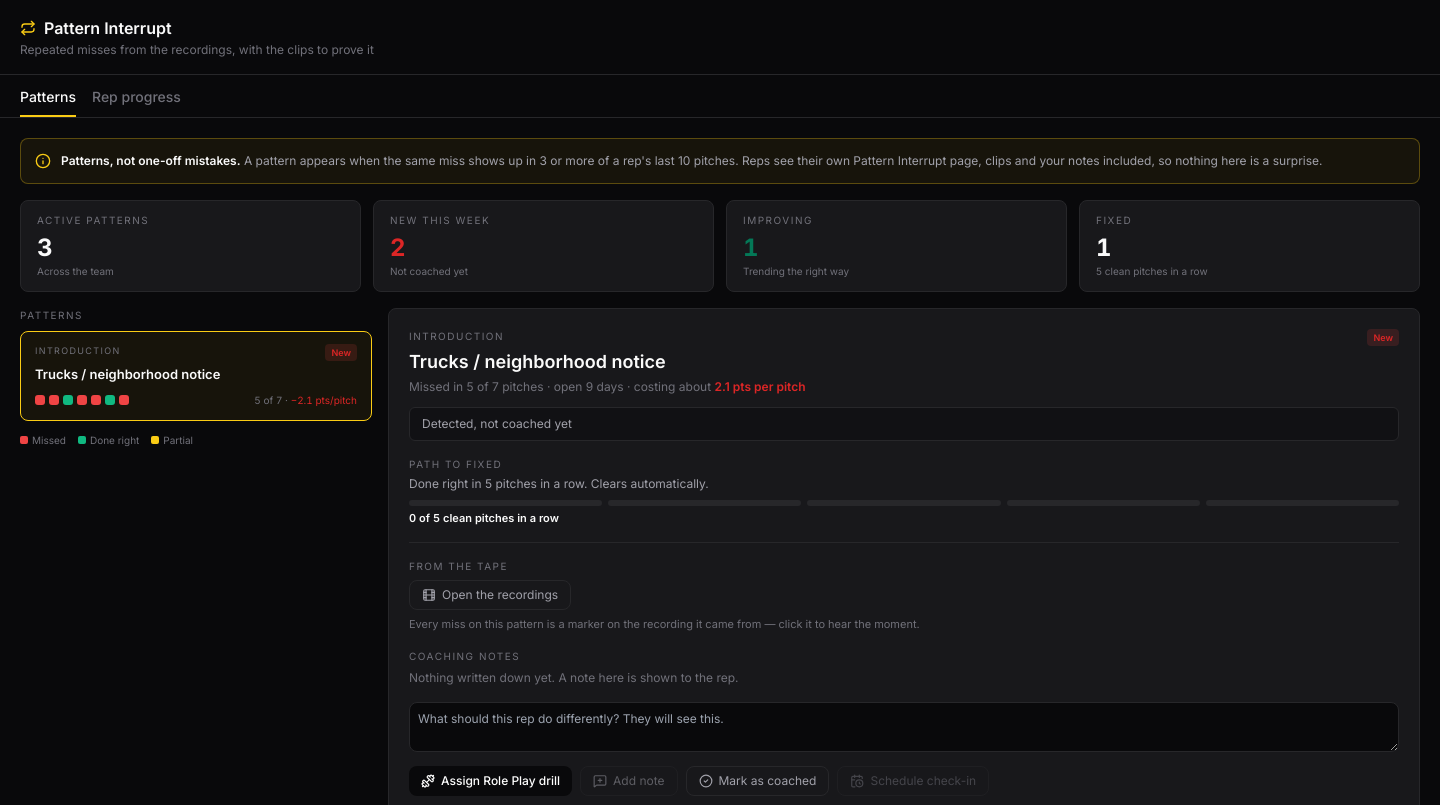
Scenario: the role split › gives a manager both tabs, and Rep progress renders the team
Expected: the text "Path to fixed" is shown, left=409, top=458, right=502, bottom=470
Click the button "Rep progress".
click(136, 102)  # box left=92, top=87, right=181, bottom=117
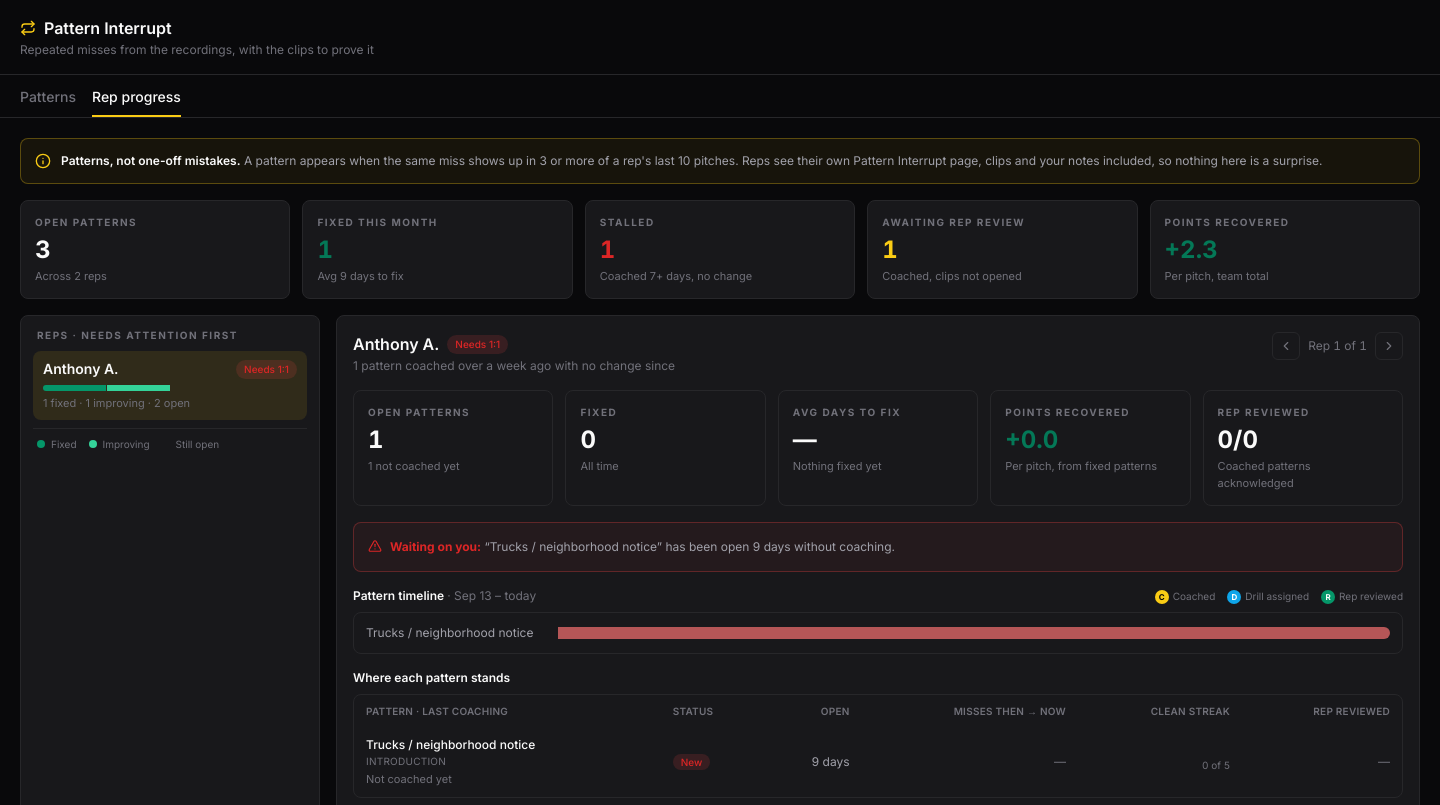
Now the text "Anthony A." is shown 2 times, box left=43, top=359, right=119, bottom=379; left=353, top=332, right=439, bottom=356
Now the text "1 fixed · 1 improving · 2 open" is shown, box left=43, top=396, right=190, bottom=410
Now the text "1 pattern coached over a week ago with no change since" is shown, box left=353, top=358, right=675, bottom=374
